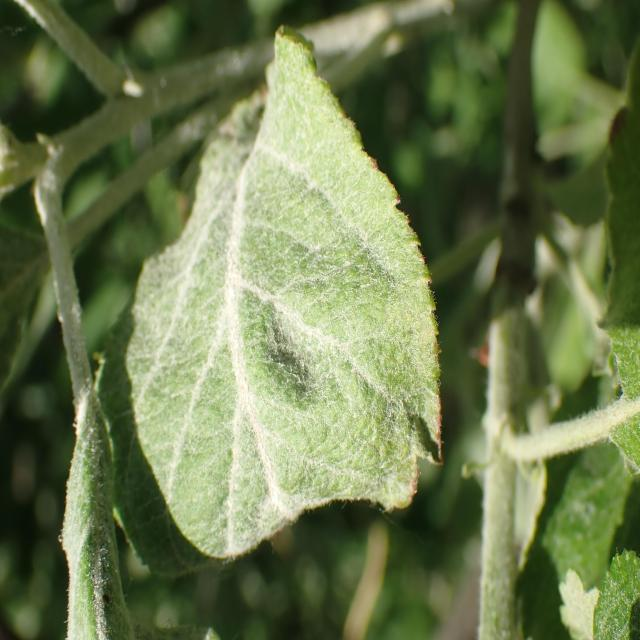Powdery_mildew: (121, 54, 446, 575), (25, 394, 144, 640), (510, 308, 640, 520)
